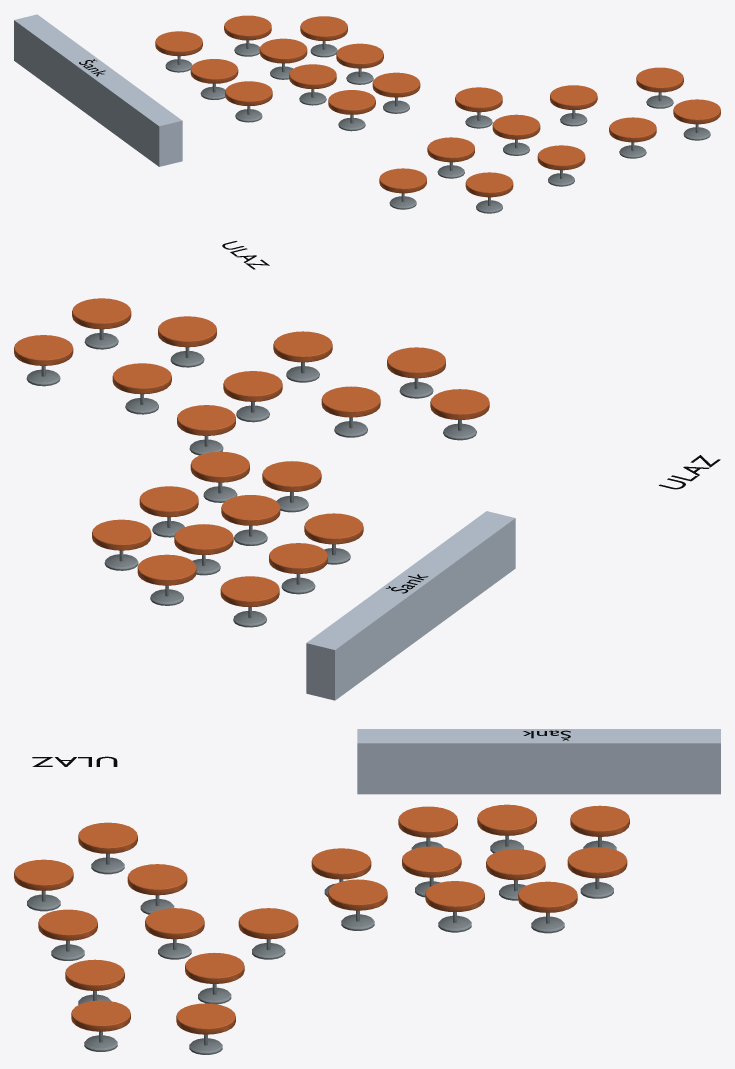
3 renders of one model, top to bottom at view 1: azimuth 30°, elevation 25°; view 2: azimuth 150°, elevation 25°; view 3: azimuth 270°, elevation 25°, orthographic. The views are drawn at different scales.
Parts seen in each view (by area): view 1: Shank, table.003, table.0024, table.012, table.010, table.005, table.002, table.020, table.011, table.008, table.013, table.014 (+9 smaller); view 2: Shank, table.009, table.002, table.013, table.006, table.008, table.0024, table.003, table.014, table.007, table.010, table.018 (+9 smaller); view 3: Shank, table.008, table.011, table.003, table.005, table.002, table.006, table.013, table.007, table.014, table.010, table.004 (+9 smaller).
Boxes of the visible parts, <box> form: Shank: <box>14,14,182,166</box>; table.003: <box>636,67,683,108</box>; table.0024: <box>609,117,656,158</box>; table.012: <box>336,43,383,84</box>; table.010: <box>379,168,426,209</box>; table.005: <box>455,87,502,128</box>; table.002: <box>673,99,720,140</box>; table.020: <box>225,81,272,122</box>; table.011: <box>372,72,420,113</box>; table.008: <box>465,172,513,213</box>; table.013: <box>300,16,347,57</box>; table.014: <box>224,15,271,56</box>; Shank: <box>306,511,515,700</box>; table.009: <box>321,386,380,437</box>; table.002: <box>72,298,131,349</box>; table.013: <box>92,519,151,570</box>; table.006: <box>273,331,332,382</box>; table.008: <box>387,347,445,398</box>; table.0024: <box>158,316,216,367</box>; table.003: <box>14,335,73,386</box>; table.014: <box>137,554,196,605</box>; table.007: <box>223,371,282,422</box>; table.010: <box>430,389,489,440</box>; table.018: <box>221,495,280,545</box>; Shank: <box>357,729,720,794</box>; table.008: <box>14,859,73,911</box>; table.011: <box>328,879,387,930</box>; table.003: <box>176,1003,235,1054</box>; table.005: <box>238,908,298,959</box>; table.002: <box>71,1000,130,1051</box>; table.006: <box>38,909,97,960</box>; table.013: <box>518,881,577,933</box>; table.007: <box>145,908,204,959</box>; table.014: <box>567,847,627,898</box>; table.010: <box>78,822,137,874</box>; table.004: <box>185,952,244,1004</box>.
Size of the model in its own units: 6.51 by 0.5155 by 6.42.
4 materials, 1 textured.
